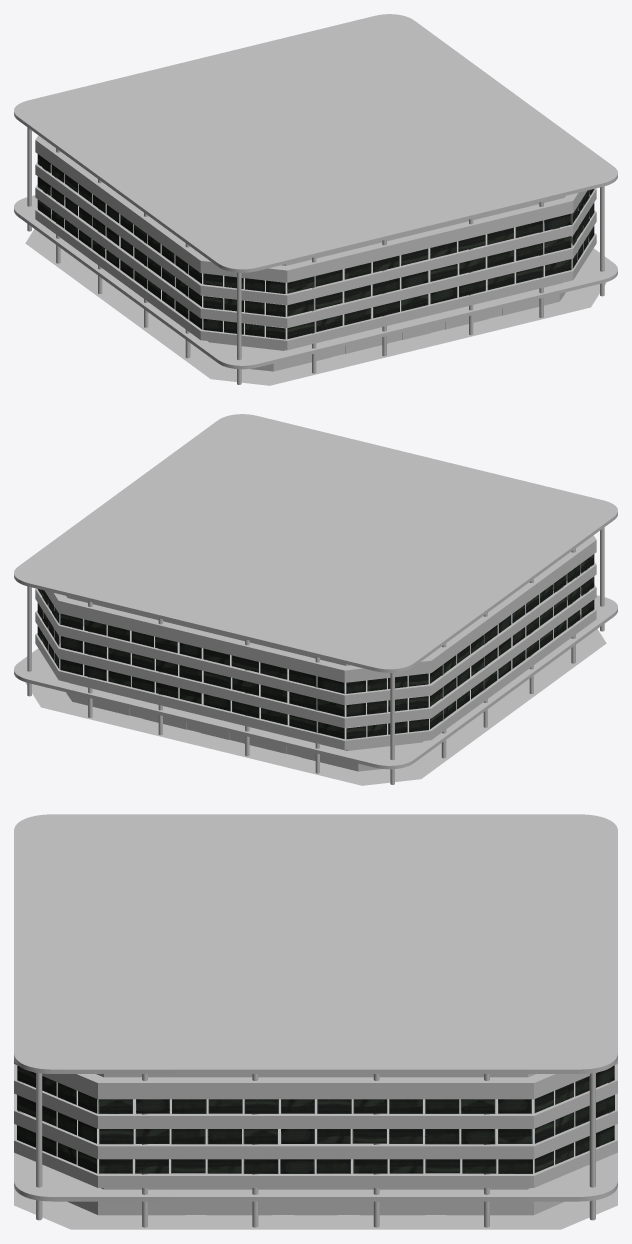
3 views of the same model, one above another, from view 1: azimuth 30°, elevation 25°; view 2: azimuth 150°, elevation 25°; view 3: azimuth 270°, elevation 25° (orthographic). The views are drawn at different scales.
Parts seen in each view (by area): view 1: QD-03; view 2: QD-03; view 3: QD-03.
Boxes of the visible parts, x1,y1,x2,y2 form: QD-03: (14, 14, 617, 385); QD-03: (14, 414, 617, 785); QD-03: (14, 814, 617, 1229).
Size of what is drawn, in the model's own units: 72 by 21.06 by 72.
